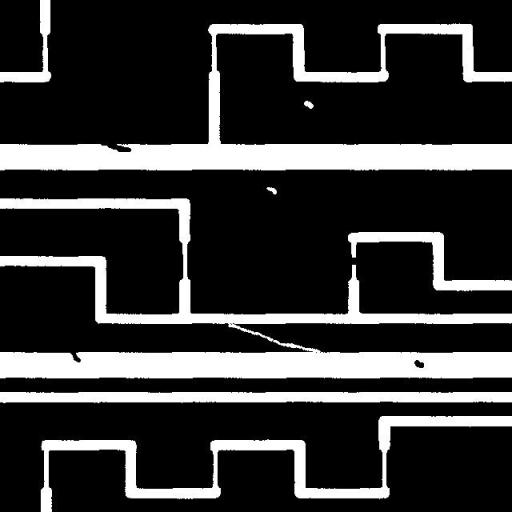copper: (406, 352, 432, 375)
open: (216, 312, 328, 360)
pin-hole: (258, 179, 284, 202), (296, 93, 321, 116)
short: (341, 250, 367, 272)
spur: (93, 134, 138, 159), (62, 342, 88, 370)
